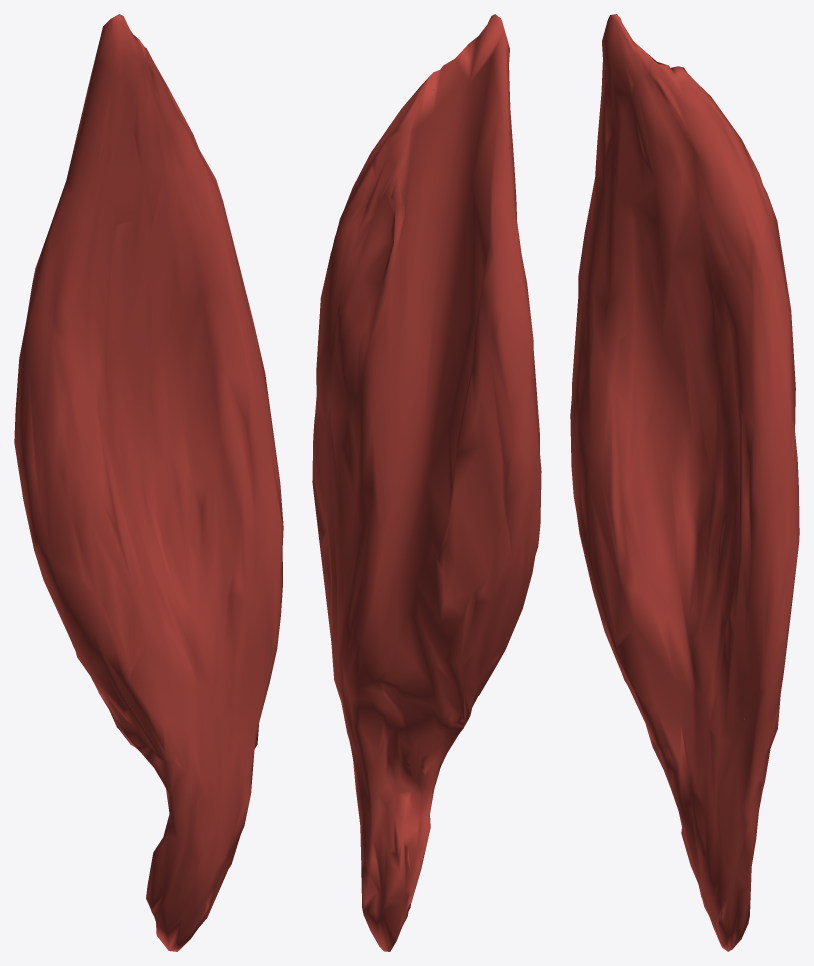
Rendered from musculos-brachialis-muscle-l.glb.
The picture shows the model from 3 angles, left to right: view 1: azimuth 30°, elevation 25°; view 2: azimuth 150°, elevation 25°; view 3: azimuth 330°, elevation 25°; orthographic projection. The views are drawn at different scales.
Parts seen in each view (by area): view 1: Brachialis muscle.l; view 2: Brachialis muscle.l; view 3: Brachialis muscle.l.
Part boxes in pixels (<box>): Brachialis muscle.l: <box>14,14,283,951</box>; Brachialis muscle.l: <box>312,14,541,951</box>; Brachialis muscle.l: <box>570,14,799,951</box>.
Bounding box in the file's own units: 0.0609 × 0.2323 × 0.0272.
